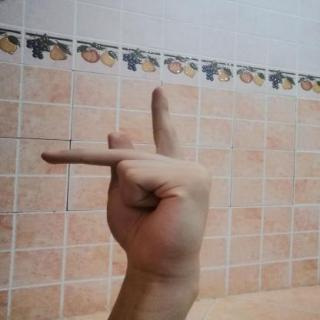DHAA: (31, 80, 225, 282)
